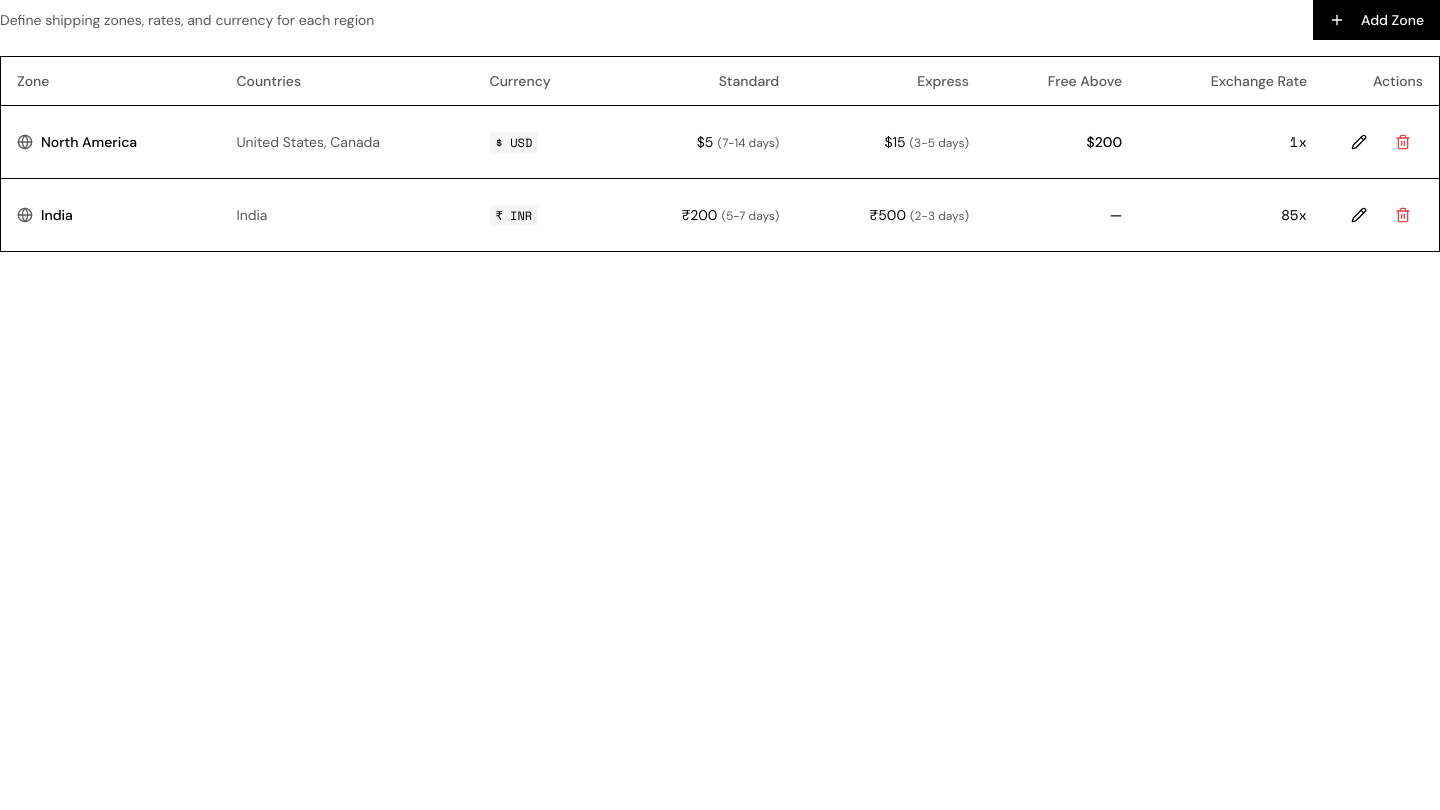
AdminShippingZones › opens delete confirmation dialog
The image size is (1440, 810).
Click the 3rd button. click: [1403, 142]
box: top-left (1383, 122), bottom-right (1423, 162)
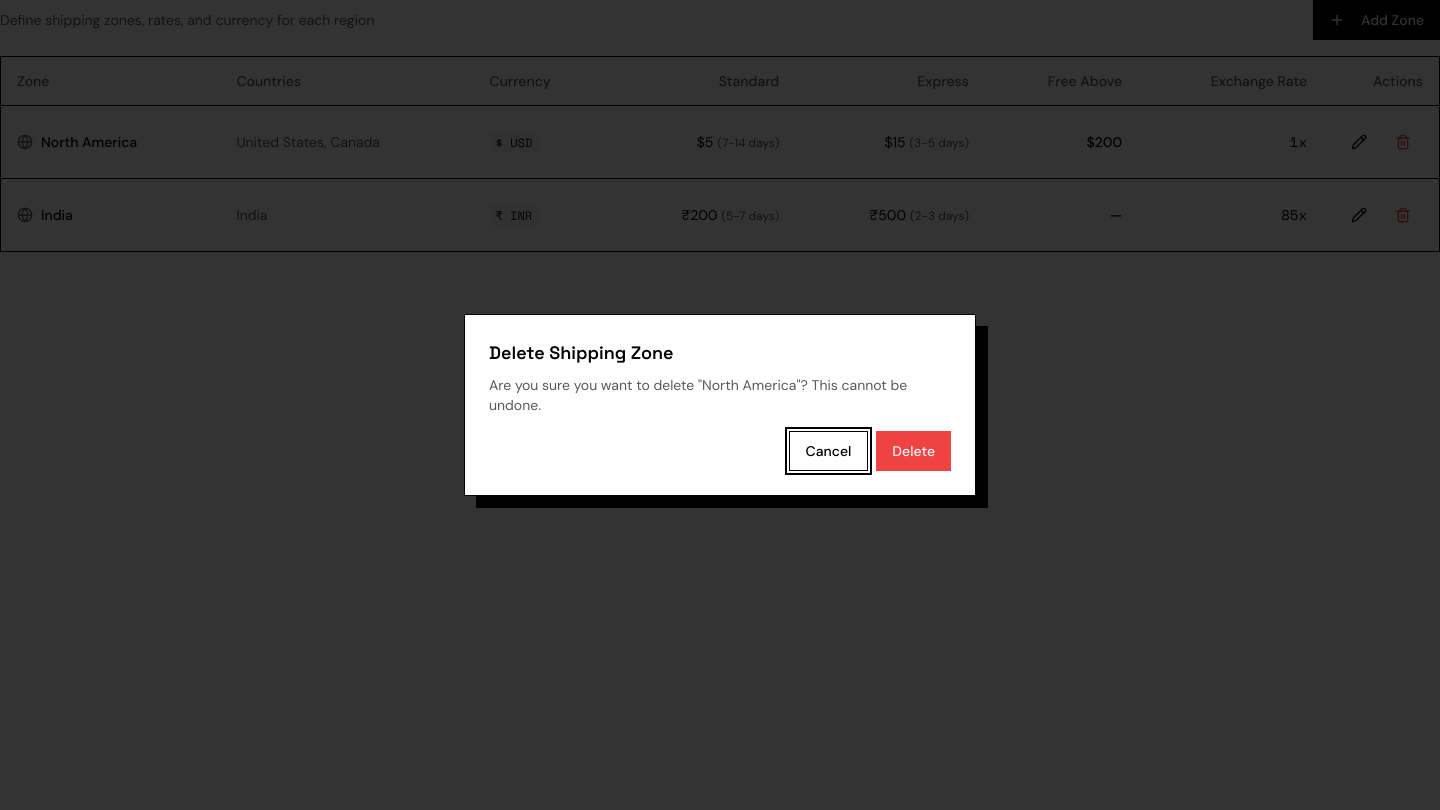
expect the heading "Delete Shipping Zone" is shown: met, box top-left (489, 341), bottom-right (674, 364)
